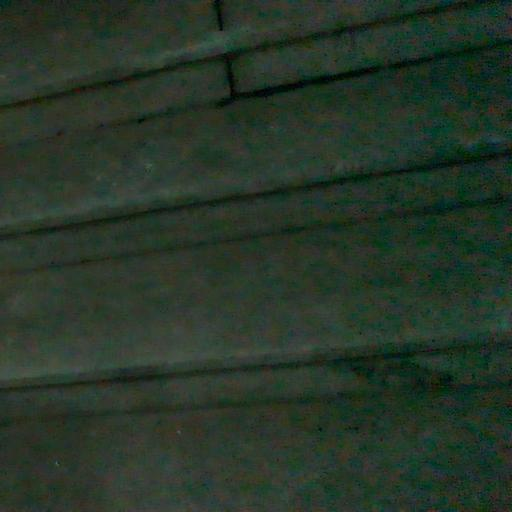Stairs: (0, 24, 512, 512)
